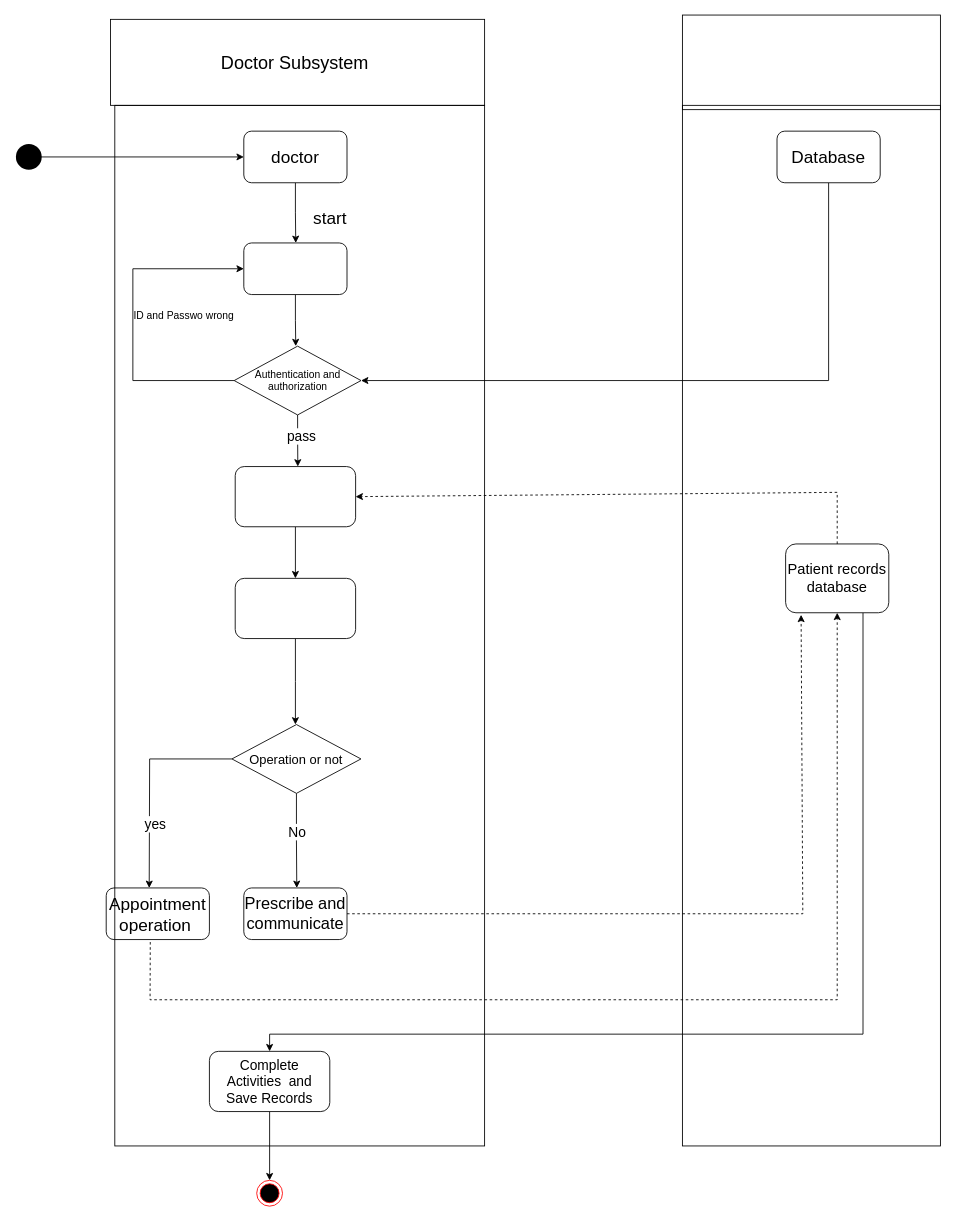
This 955x1221 diagram has some shape labels left out. Here are the shapes that lost their labels. From the top down, the centre of each, then its label:
At point 811,62: "Hospital Management System".
At point 295,268: "Login".
At point 295,496: "Access Patient Records".
At point 295,608: "Diagnose Medical Conditions".
